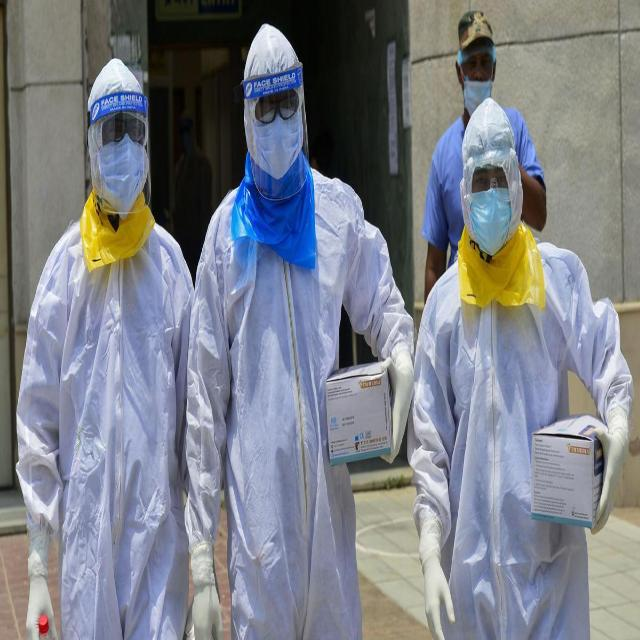Coverall: (420, 31, 631, 639), (11, 45, 210, 635), (196, 10, 380, 640)
Gloves: (383, 316, 429, 488), (411, 497, 464, 621), (12, 516, 58, 640), (180, 541, 236, 631), (596, 360, 622, 537)
Mask: (96, 132, 163, 211), (465, 177, 511, 269), (251, 114, 310, 179), (463, 74, 493, 117)
